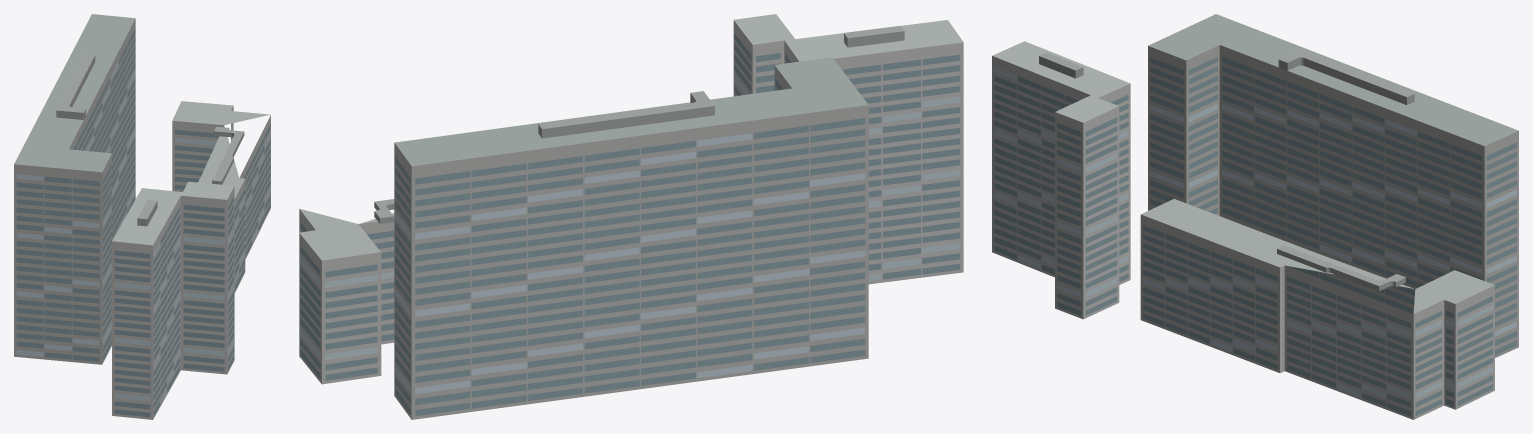
Rendered from apt-a13804003.glb.
3 views of the same model, side by side, from view 1: azimuth 30°, elevation 25°; view 2: azimuth 150°, elevation 25°; view 3: azimuth 270°, elevation 25° (orthographic). The views are drawn at different scales.
Visible parts, largest first — view 1: apt-a13804003; view 2: apt-a13804003; view 3: apt-a13804003.
Boxes of the visible parts, x1,y1,x2,y2 form: apt-a13804003: (14, 14, 270, 419); apt-a13804003: (299, 14, 963, 419); apt-a13804003: (992, 14, 1518, 419).
Bounding box in the file's own units: 121 × 67 × 142.
